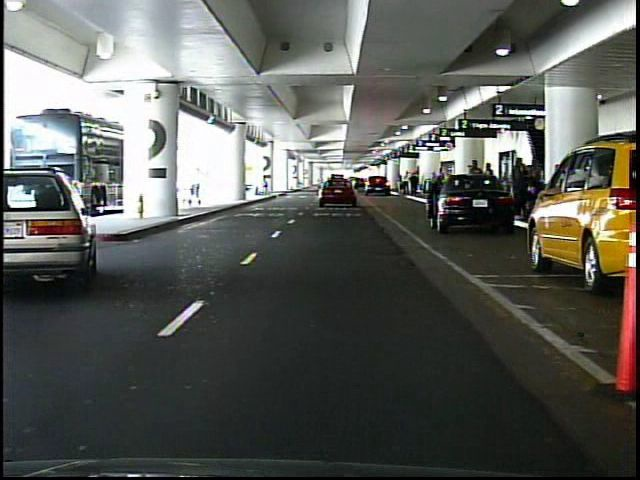person: (522, 154, 542, 221), (508, 158, 529, 216), (468, 157, 485, 210), (483, 161, 498, 211), (403, 170, 412, 197), (411, 173, 419, 198), (397, 175, 404, 193)
